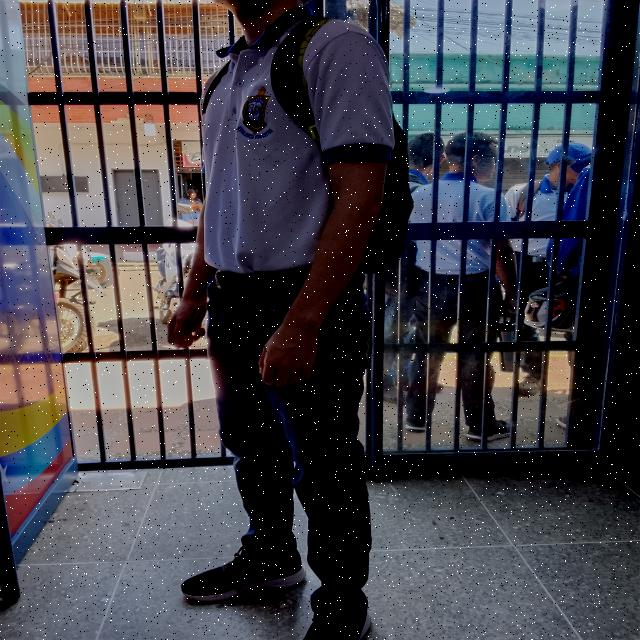pantalon_oscuro: (207, 277, 373, 621)
uniforme_superior: (199, 6, 395, 274), (403, 172, 508, 275)
